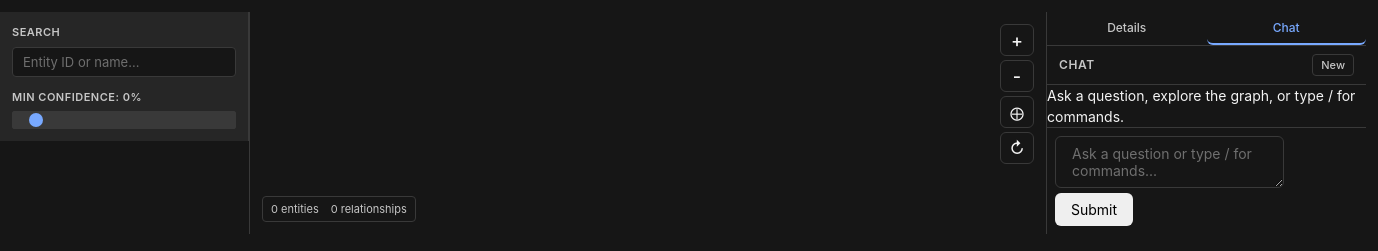
DataView — right panel tab controls › clicking 'Details' tab shows GraphDetailPanel
Click the tab with test id "data-view-tab-chat". click: (1286,28)
box: 1206,12 -> 1366,45
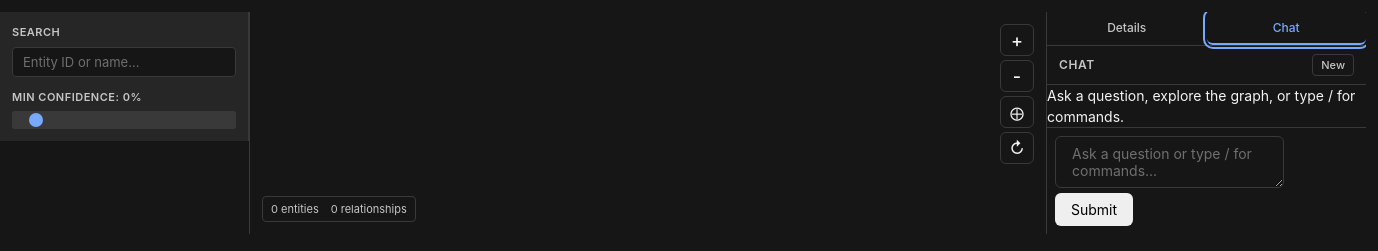
Check: the element with test id "chat-panel" is shown, box 1047,46 -> 1366,234
Now switch back to Details
Click the tab with test id "data-view-tab-details". click: (1127,28)
box: 1047,12 -> 1206,45
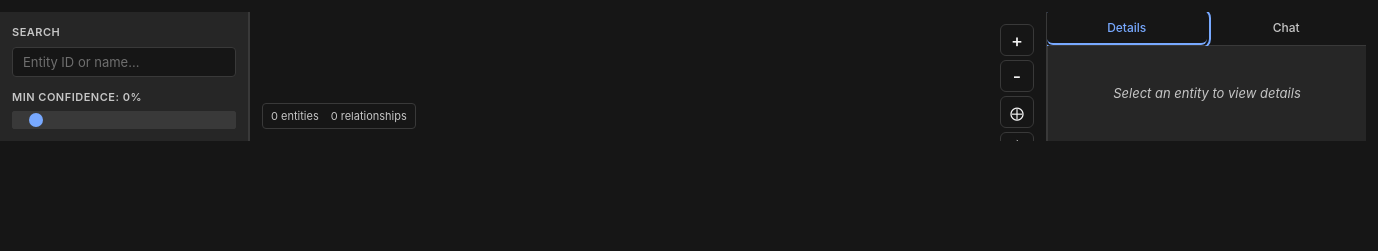
Check: the element with test id "graph-detail-panel-empty" is shown, box 1047,46 -> 1366,141
